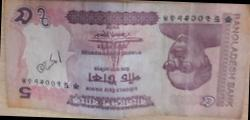5 taka: (4, 1, 243, 117)
